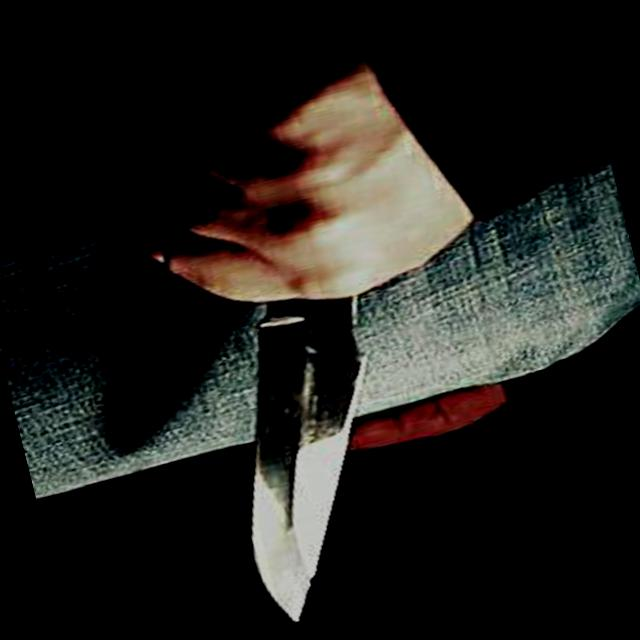knife: (127, 128, 446, 639)
